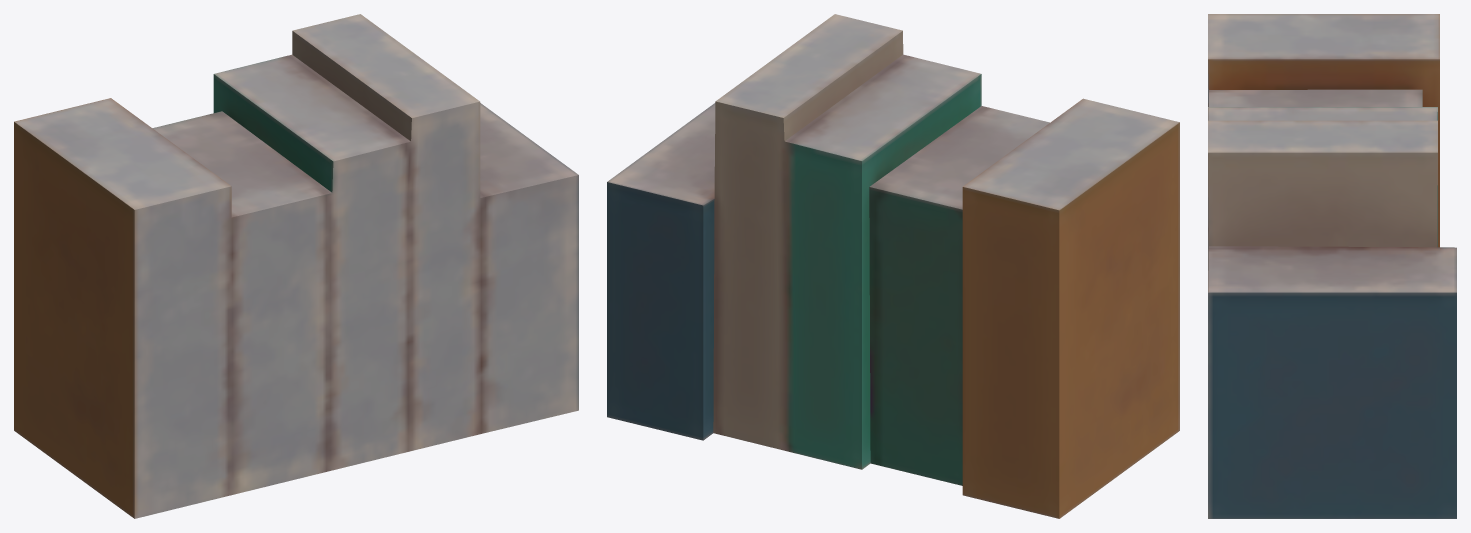
Rendered from Pfb_Indoors_Books__2.fbx.
The picture shows the model from 3 angles, left to right: view 1: azimuth 30°, elevation 25°; view 2: azimuth 150°, elevation 25°; view 3: azimuth 270°, elevation 25°; orthographic projection. The views are drawn at different scales.
Visible parts, largest first — view 1: Mat_Indoors_Books_01_2; view 2: Mat_Indoors_Books_01_2; view 3: Mat_Indoors_Books_01_2.
Boxes of the visible parts, x1,y1,x2,y2 form: Mat_Indoors_Books_01_2: (14,14,578,518); Mat_Indoors_Books_01_2: (607,14,1179,518); Mat_Indoors_Books_01_2: (1208,14,1456,518).
Bounding box in the file's own units: 0.6743 × 0.4831 × 0.3403.
1 material, 1 textured.
